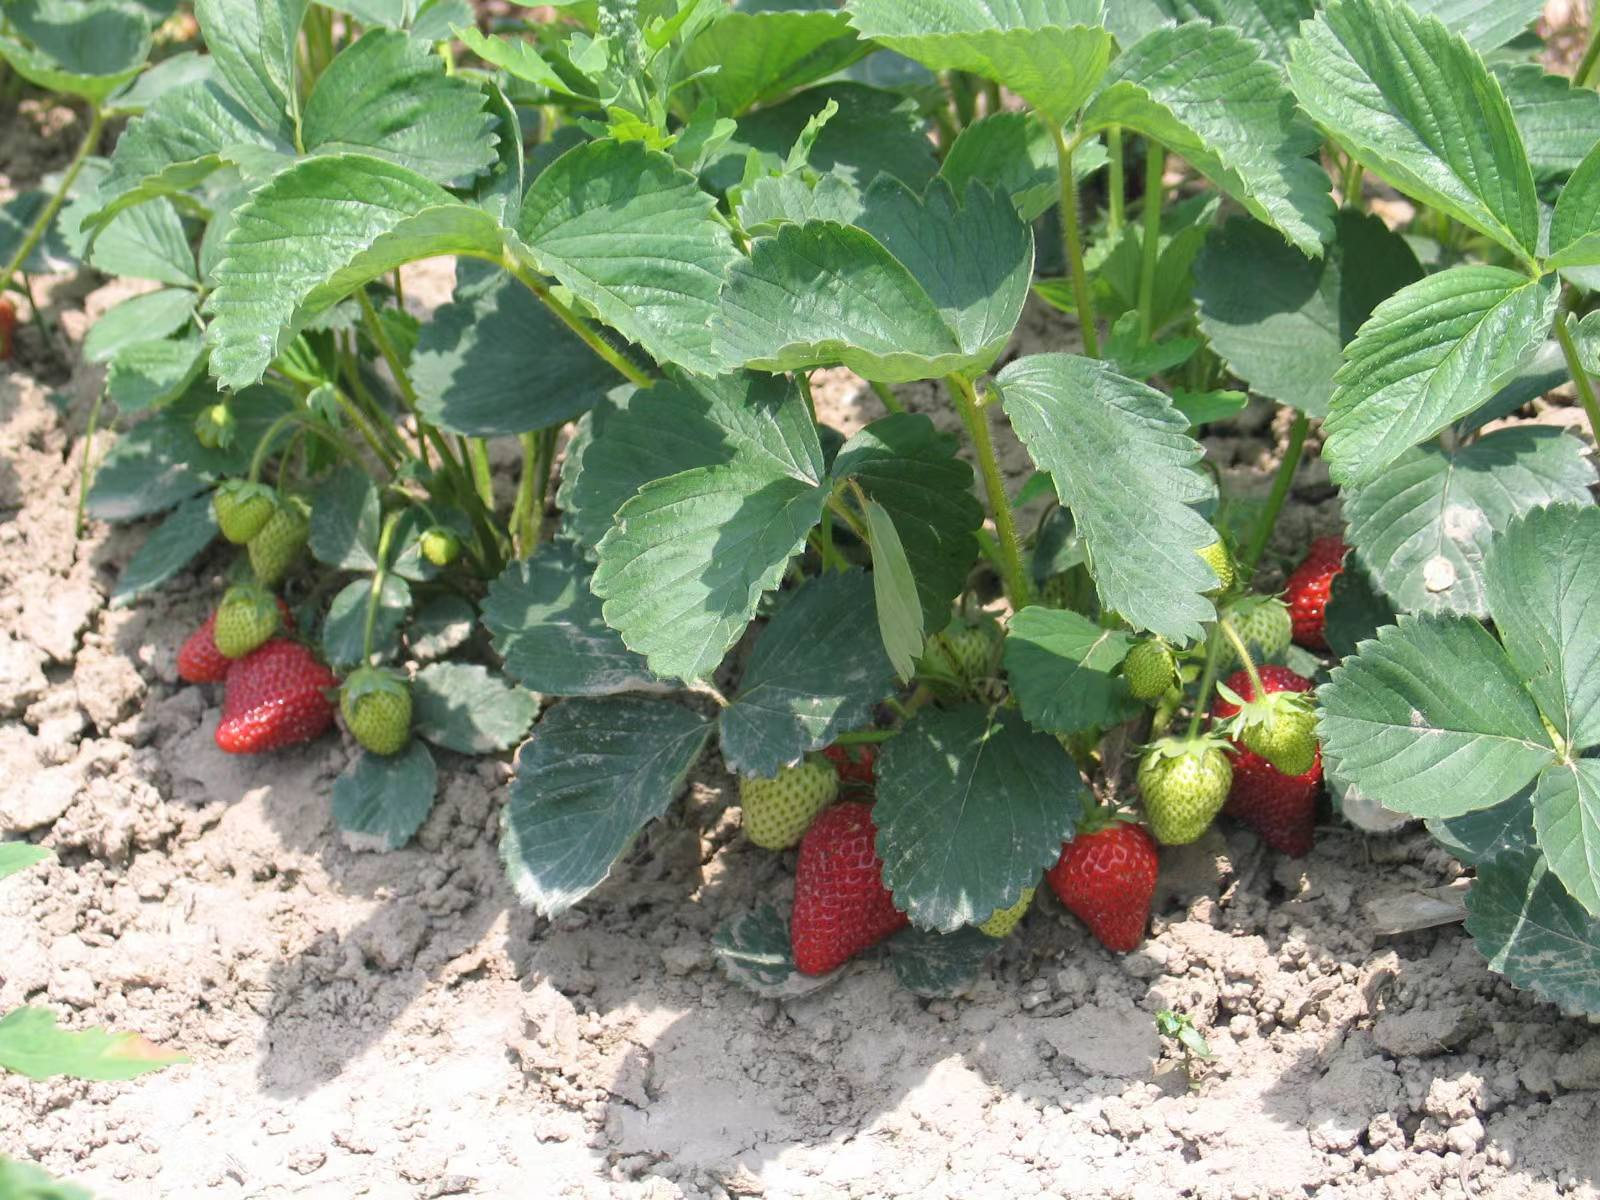StrawberryCone: (785, 805, 923, 978), (204, 632, 344, 774), (1043, 811, 1167, 968)
StrawberryIrremovable: (731, 740, 839, 848), (1144, 722, 1236, 846), (1209, 579, 1311, 672), (339, 666, 413, 760), (915, 606, 1003, 686), (1247, 689, 1325, 778), (214, 582, 292, 661), (237, 504, 311, 580), (202, 478, 278, 545), (1112, 634, 1191, 700), (186, 402, 244, 454)
StrawberryOther: (1217, 678, 1339, 862), (1265, 522, 1373, 650)
StrawberryRemovable: (789, 805, 918, 976), (1217, 678, 1335, 858), (1049, 814, 1165, 964), (212, 637, 338, 768), (1269, 526, 1371, 648)
